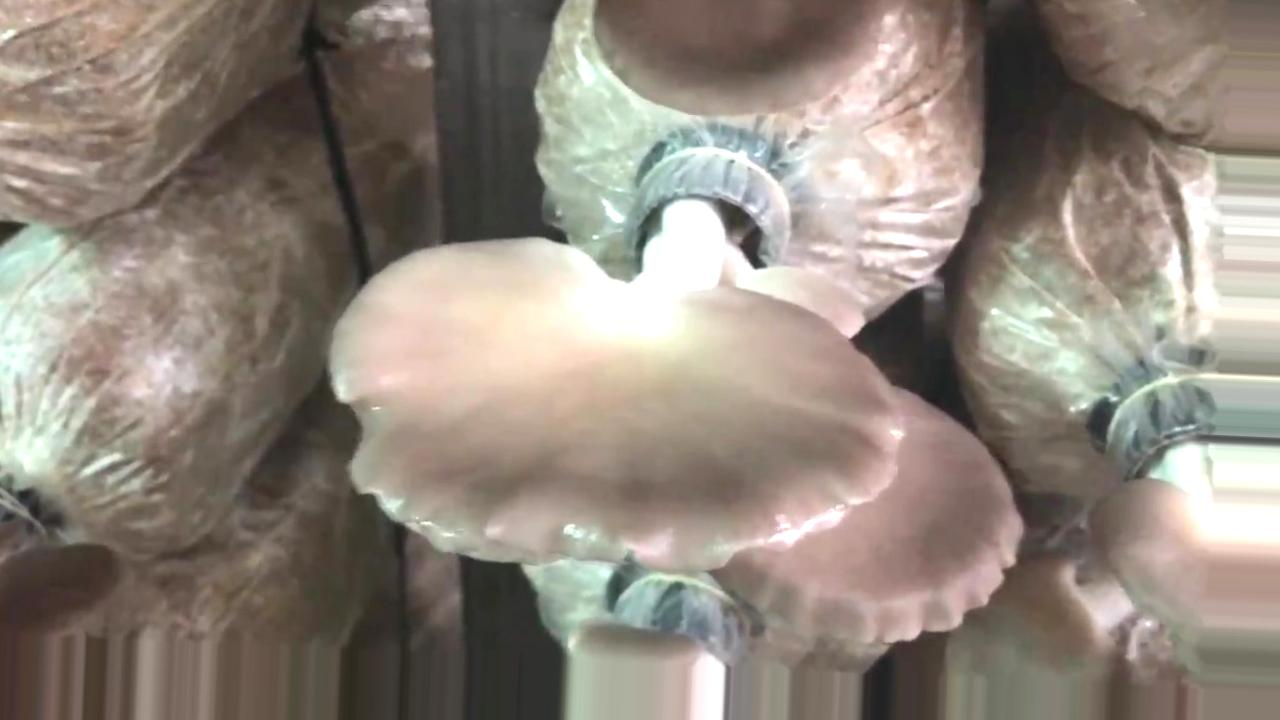nam: (325, 127, 900, 582), (718, 387, 1030, 649), (1011, 362, 1223, 670), (597, 1, 889, 123), (1, 543, 109, 634)
